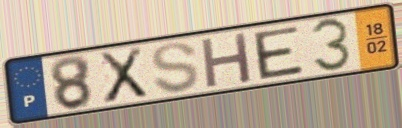3: (308, 16, 354, 74)
8: (48, 54, 96, 113)
E: (250, 24, 306, 82)
H: (198, 29, 254, 91)
S: (149, 41, 202, 95)
X: (96, 44, 150, 106)
